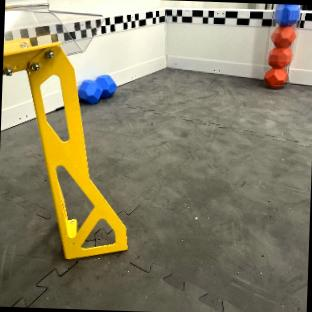Goal: (3, 0, 128, 258)
V5_BLUE: (78, 74, 115, 103), (274, 4, 299, 26)
V5_RED: (264, 66, 287, 88), (269, 46, 292, 68), (271, 26, 295, 47)
